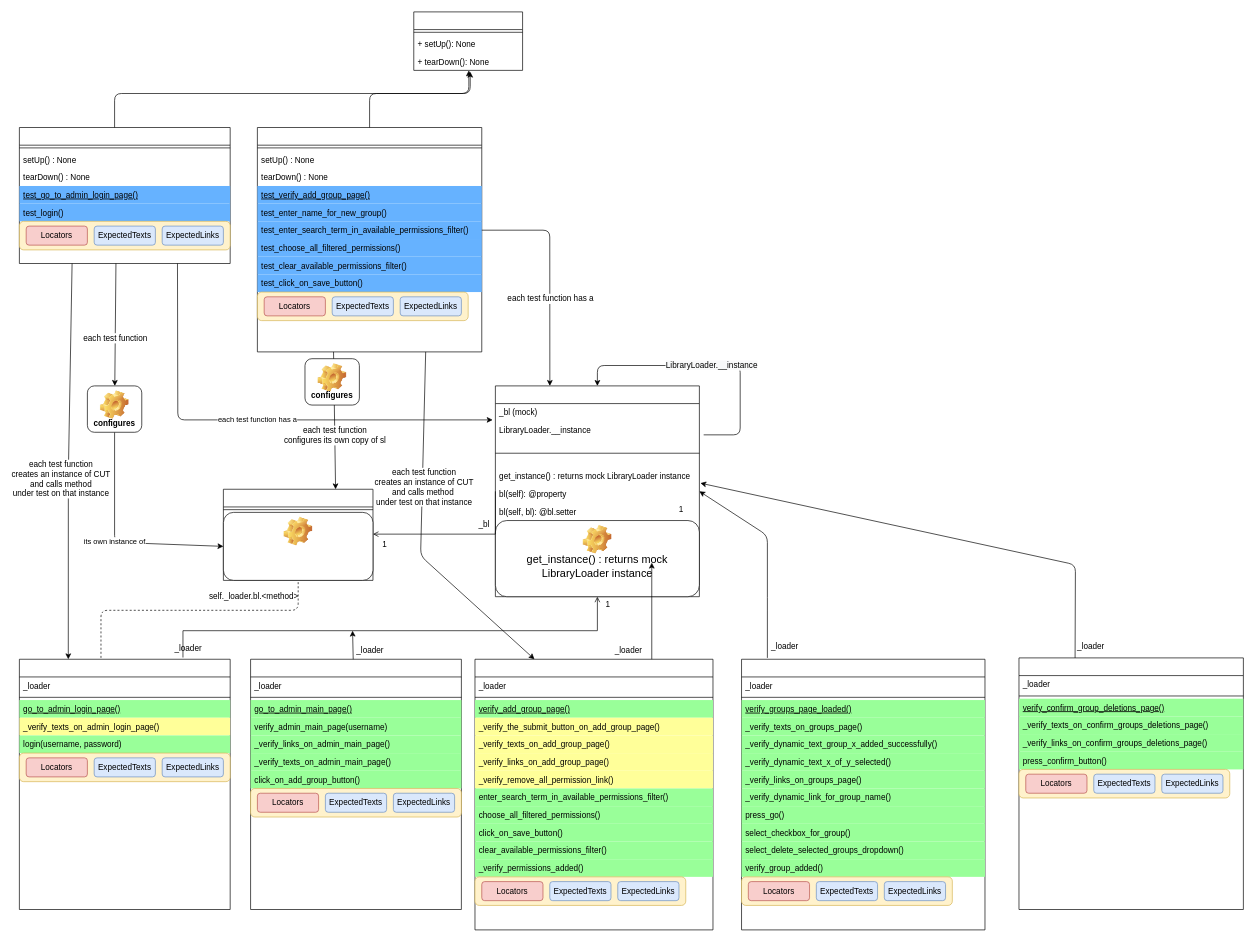
This 1256x942 diagram has some shape labels left out. Each missing label, with the box of its shape:
AddGroupPage (CUT): (474, 659, 713, 930)
AddGroupPageUT: (257, 127, 482, 352)
AdminLoginPage (CUT): (19, 659, 230, 910)
AdminLoginPageUT: (19, 127, 230, 264)
AdminMainPage (CUT): (250, 659, 461, 910)
bl (mock(strict=True)): (223, 489, 373, 580)
ConfirmGroupsDeletionsPage (CUT): (1018, 657, 1243, 910)
GroupsPage (CUT): (741, 659, 985, 930)
LibraryLoader (singleton, mock): (495, 385, 699, 597)
pre-configured mock calls for method under test: (223, 512, 373, 580)
unittest.TestCase: (413, 11, 523, 70)
